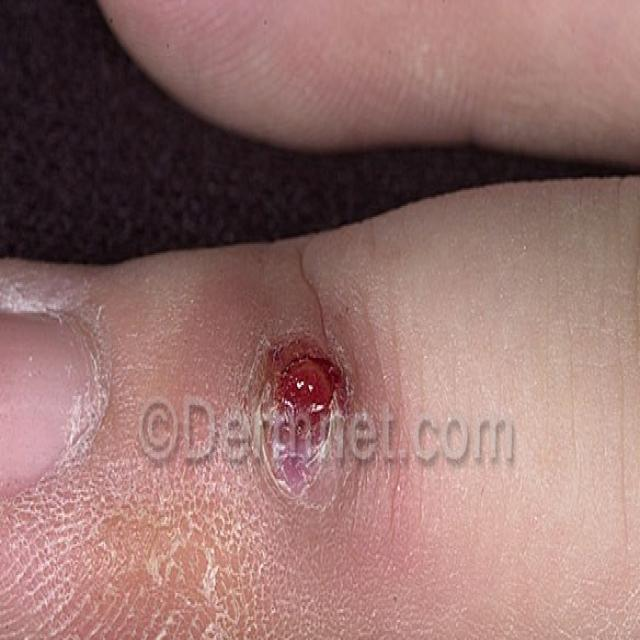Vascular Tumors: (235, 320, 383, 493)
